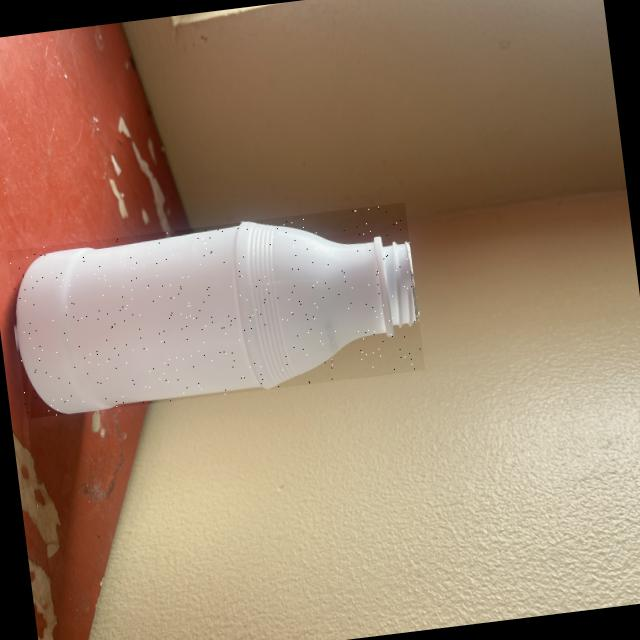HDPE_Bottle: (16, 222, 418, 412)
